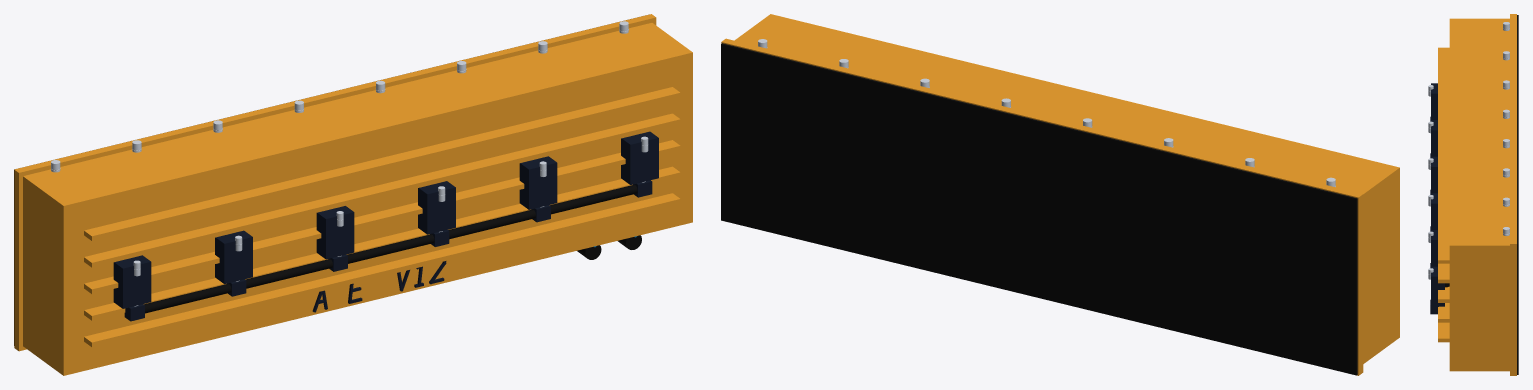
File: valve-cover-right.glb
3 renders of one model, left to right at view 1: azimuth 30°, elevation 25°; view 2: azimuth 150°, elevation 25°; view 3: azimuth 270°, elevation 25°, orthographic. The views are drawn at different scales.
Visible parts, largest first — view 1: Valve_Cover_Main_Billet_Shell, Longitudinal_Cooling_Fin_4, Longitudinal_Cooling_Fin_1, Longitudinal_Cooling_Fin_5, Perimeter_Gasket_Mating_Flange, Longitudinal_Cooling_Fin_3, Ignition_Coil_Harness_Loom, Longitudinal_Cooling_Fin_2, Smart_Ignition_Coil_Pack_3, Smart_Ignition_Coil_Pack_1, Smart_Ignition_Coil_Pack_5, Smart_Ignition_Coil_Pack_4 (+3 smaller); view 2: Molded_Viton_Perimeter_Gasket, Valve_Cover_Main_Billet_Shell, Perimeter_Gasket_Mating_Flange; view 3: Valve_Cover_Main_Billet_Shell, Longitudinal_Cooling_Fin_5, Perimeter_Gasket_Mating_Flange, Molded_Viton_Perimeter_Gasket, Smart_Ignition_Coil_Pack_6, Smart_Ignition_Coil_Pack_3, Longitudinal_Cooling_Fin_1, Longitudinal_Cooling_Fin_4, Smart_Ignition_Coil_Pack_1, Smart_Ignition_Coil_Pack_2, Smart_Ignition_Coil_Pack_4, Smart_Ignition_Coil_Pack_5 (+2 smaller).
Part boxes in pixels (box(x1,y1,x2,y2)): Valve_Cover_Main_Billet_Shell: box(23, 23, 692, 375); Longitudinal_Cooling_Fin_4: box(84, 113, 680, 267); Longitudinal_Cooling_Fin_1: box(84, 193, 680, 347); Longitudinal_Cooling_Fin_5: box(84, 87, 680, 240); Perimeter_Gasket_Mating_Flange: box(14, 14, 656, 351); Longitudinal_Cooling_Fin_3: box(84, 140, 680, 293); Ignition_Coil_Harness_Loom: box(144, 184, 637, 313); Longitudinal_Cooling_Fin_2: box(84, 166, 680, 320); Smart_Ignition_Coil_Pack_3: box(316, 206, 354, 259); Smart_Ignition_Coil_Pack_1: box(113, 255, 151, 308); Smart_Ignition_Coil_Pack_5: box(519, 156, 557, 209); Smart_Ignition_Coil_Pack_4: box(418, 181, 455, 234); Molded_Viton_Perimeter_Gasket: box(721, 43, 1357, 375); Valve_Cover_Main_Billet_Shell: box(734, 14, 1399, 363); Perimeter_Gasket_Mating_Flange: box(721, 38, 1363, 375); Valve_Cover_Main_Billet_Shell: box(1449, 18, 1509, 371); Longitudinal_Cooling_Fin_5: box(1438, 47, 1449, 263); Perimeter_Gasket_Mating_Flange: box(1510, 14, 1516, 375); Molded_Viton_Perimeter_Gasket: box(1517, 15, 1518, 374); Smart_Ignition_Coil_Pack_6: box(1431, 266, 1444, 306); Smart_Ignition_Coil_Pack_3: box(1431, 156, 1437, 193); Longitudinal_Cooling_Fin_1: box(1438, 322, 1449, 342); Longitudinal_Cooling_Fin_4: box(1438, 263, 1449, 283); Smart_Ignition_Coil_Pack_1: box(1431, 83, 1437, 119); Smart_Ignition_Coil_Pack_2: box(1431, 120, 1437, 156); Smart_Ignition_Coil_Pack_4: box(1431, 193, 1437, 229); Smart_Ignition_Coil_Pack_5: box(1431, 230, 1437, 266).
Bounding box in the file's own units: 0.628 × 0.188 × 0.1041.
